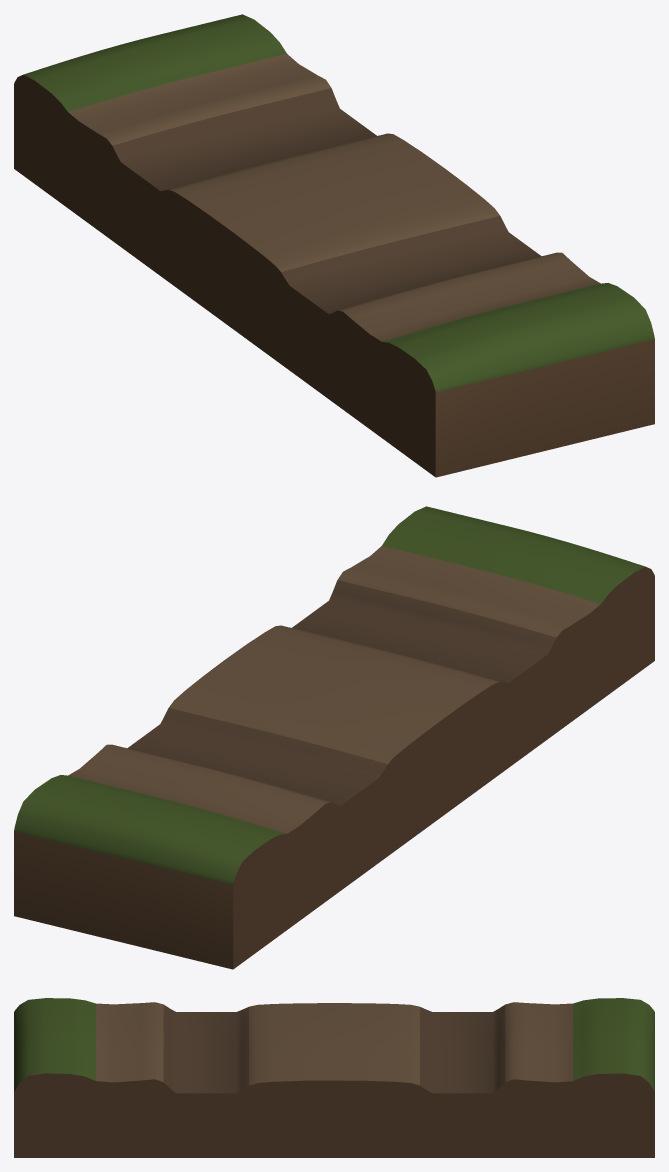
3 views of the same model, one above another, from view 1: azimuth 30°, elevation 25°; view 2: azimuth 150°, elevation 25°; view 3: azimuth 270°, elevation 25° (orthographic). The views are drawn at different scales.
Parts seen in each view (by area): view 1: r1u; view 2: r1u; view 3: r1u.
Boxes of the visible parts, bbox=[...] form: r1u: bbox=[14, 14, 654, 477]; r1u: bbox=[14, 506, 654, 969]; r1u: bbox=[14, 998, 654, 1157].
Bounding box in the file's own units: 2.7 × 1.31 × 9.
